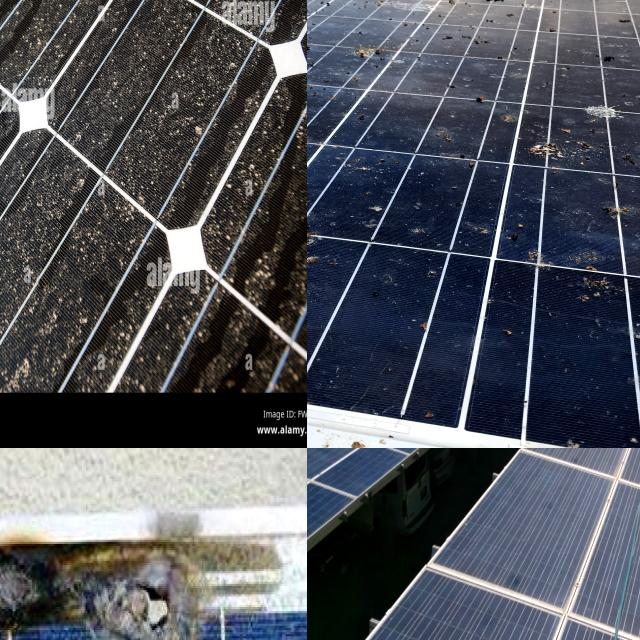bird: (558, 58, 638, 140), (307, 195, 375, 284), (307, 318, 372, 401), (307, 226, 347, 322), (307, 12, 361, 64), (350, 35, 420, 71), (307, 117, 356, 156), (606, 1, 640, 36)
dust: (92, 9, 208, 175), (0, 187, 98, 371), (464, 527, 583, 640), (193, 0, 307, 82), (0, 233, 60, 386), (0, 69, 43, 260), (0, 0, 88, 85), (565, 448, 624, 485)
shadow: (0, 531, 250, 640)
